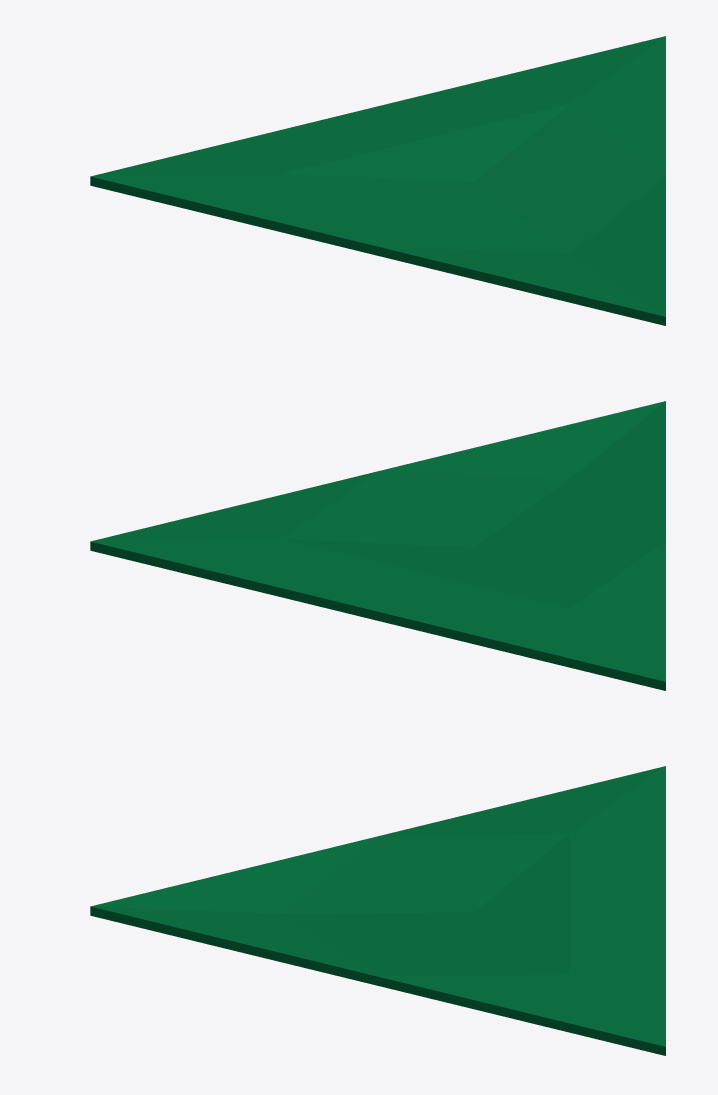
File: tile0.glb
3 renders of one model, top to bottom at view 1: azimuth 30°, elevation 25°; view 2: azimuth 150°, elevation 25°; view 3: azimuth 270°, elevation 25°, orthographic.
Parts seen in each view (by area): view 1: ground.016; view 2: ground.016; view 3: ground.016.
Part boxes in pixels (<box>): ground.016: <box>90,36,665,325</box>; ground.016: <box>90,401,665,690</box>; ground.016: <box>90,766,665,1055</box>.
Bounding box in the file's own units: 1.2 × 0.0203 × 1.04.
